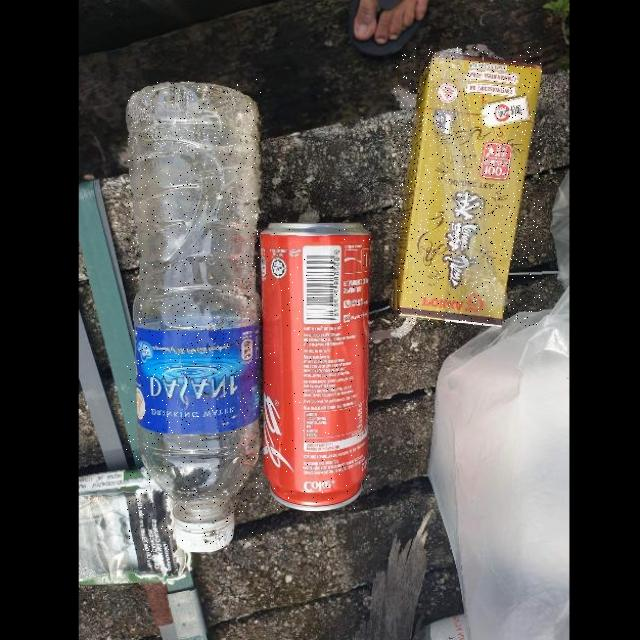metal: (260, 219, 372, 510)
paper: (393, 47, 542, 326)
plastic: (126, 79, 262, 552)
